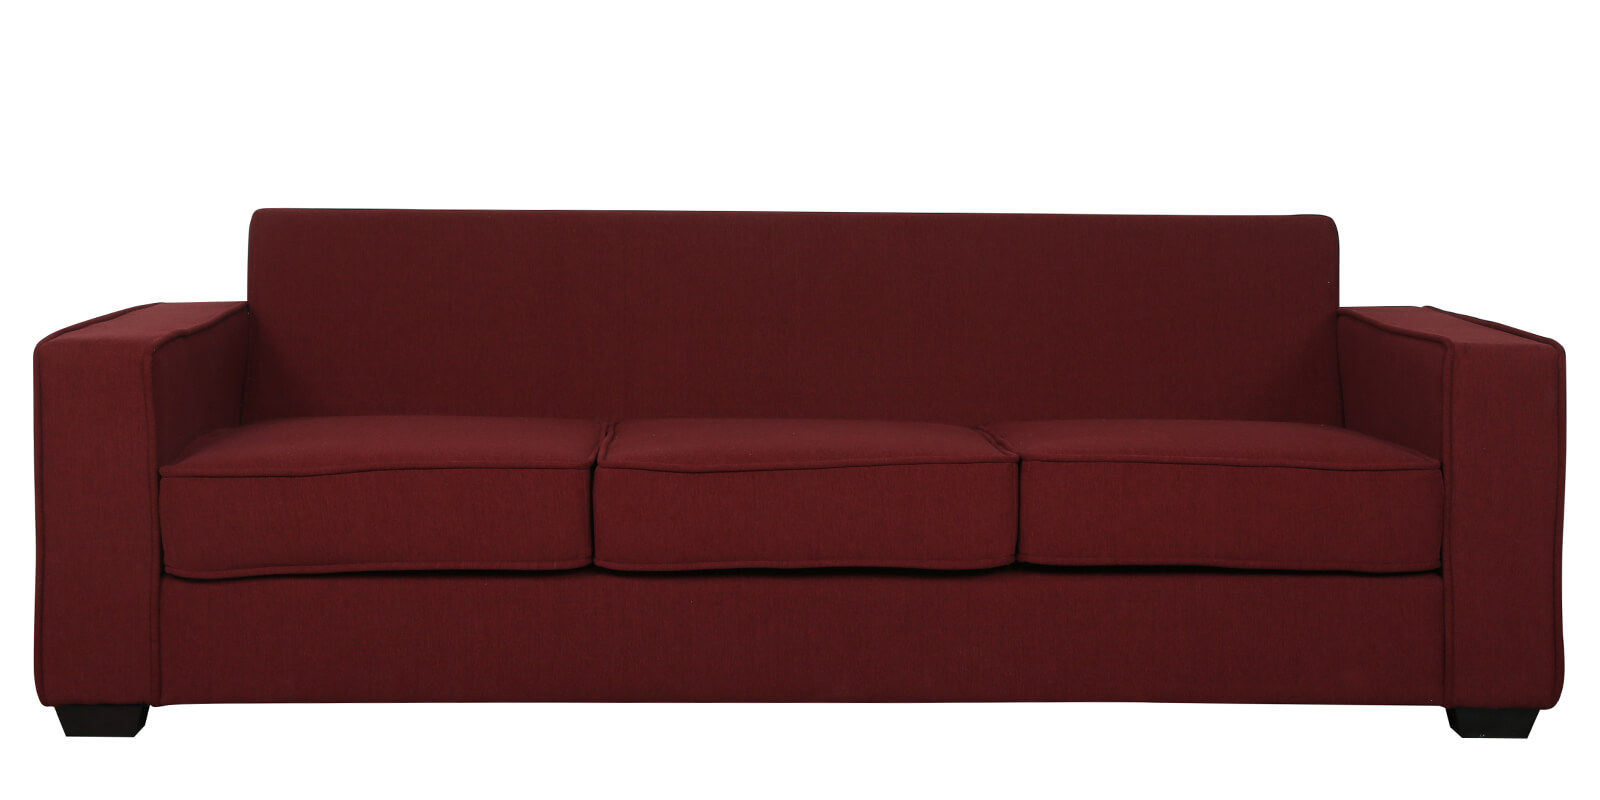Hugo Three Seater Sofa in Garnet Red Colour by CasaCraft: (18, 179, 1600, 760)
